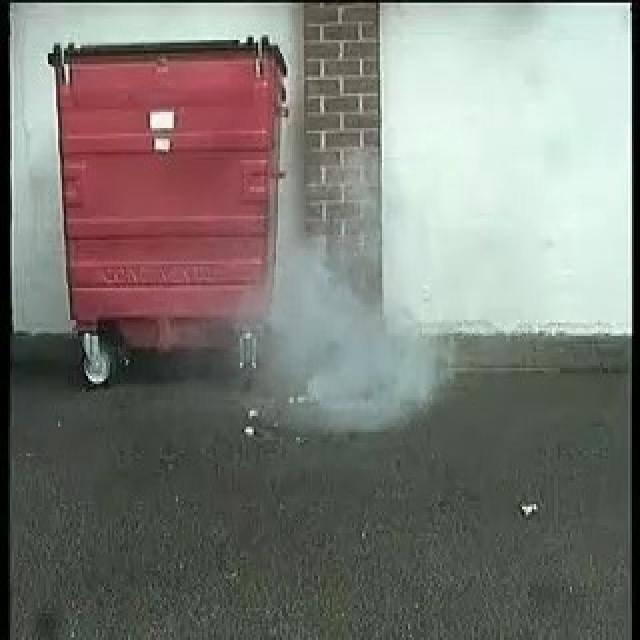smoke: (274, 267, 460, 425)
